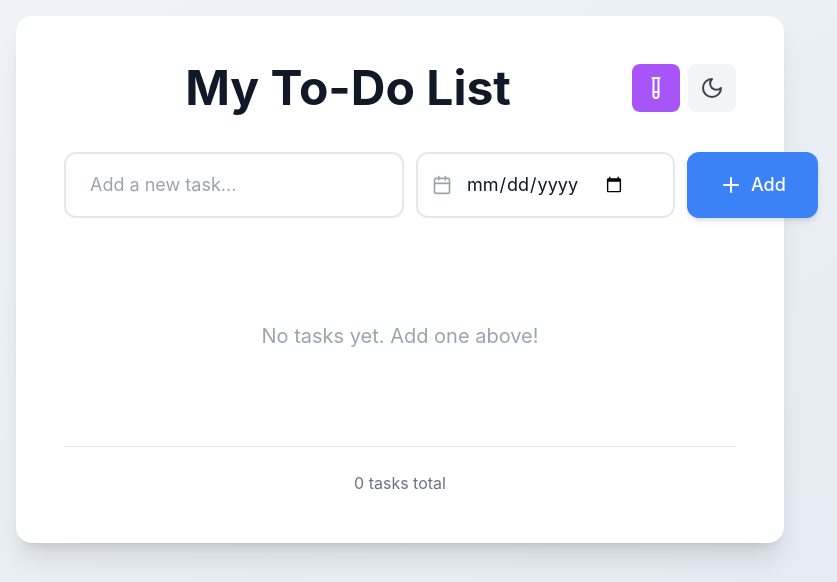
TodoApp › does not delete todo before due date
The width and height of the screenshot is (837, 582).
In the field with test id "todo-input": (234,185) [64,152,404,218], type "Future task"
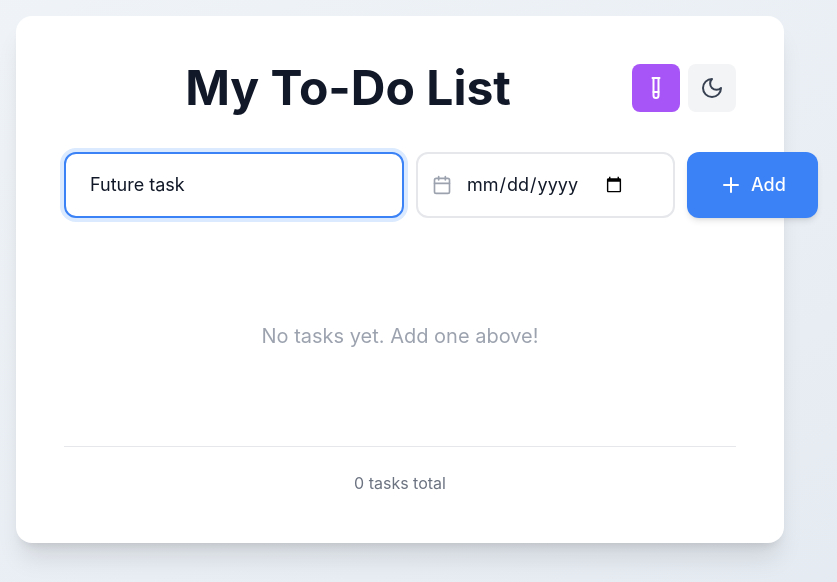
In the date field with test id "date-input": (546,185) [416,152,675,218], type "2025-10-30"
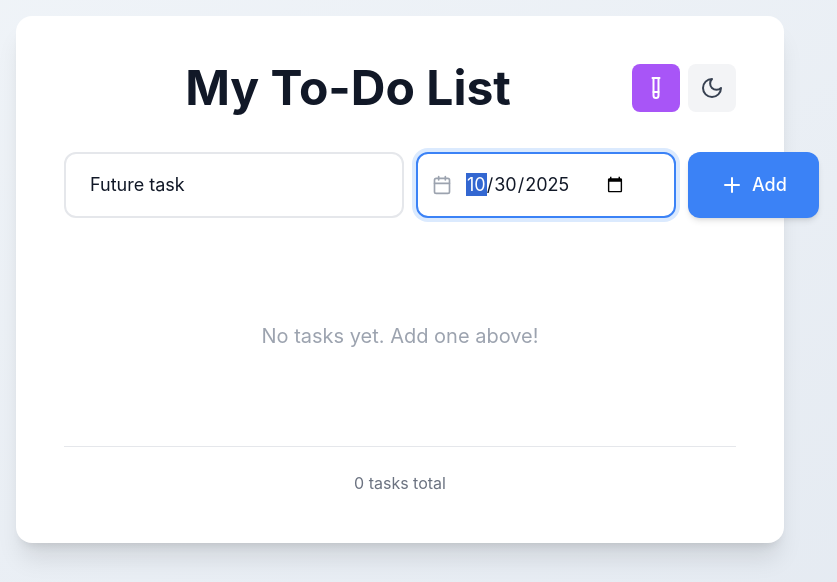
Click the button with test id "add-button": (753,185) [688,152,819,218]
Wait 1000 ms
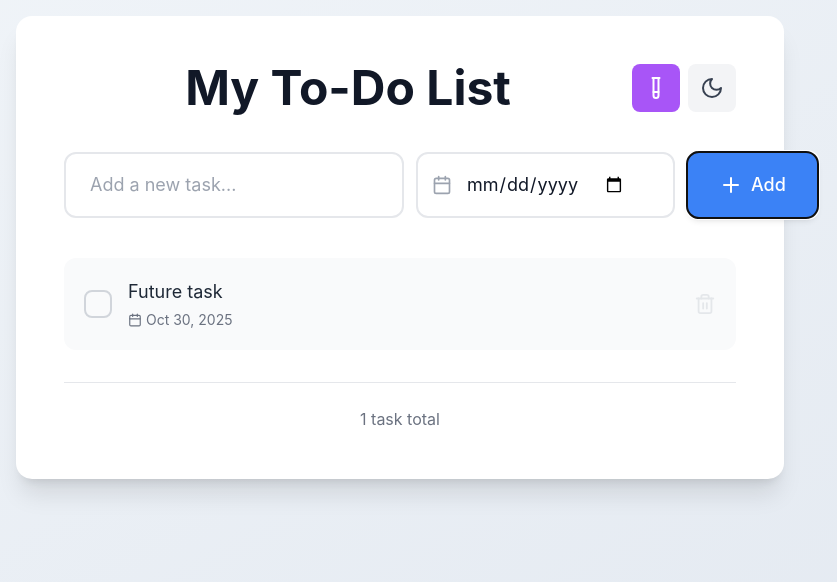
Expected: the text "Future task" is shown, [128,281,223,302]
